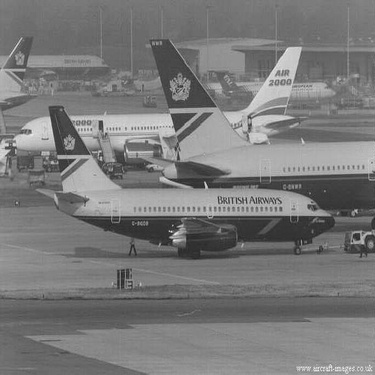airplane: (18, 100, 344, 268), (149, 30, 375, 190), (5, 43, 307, 142)
